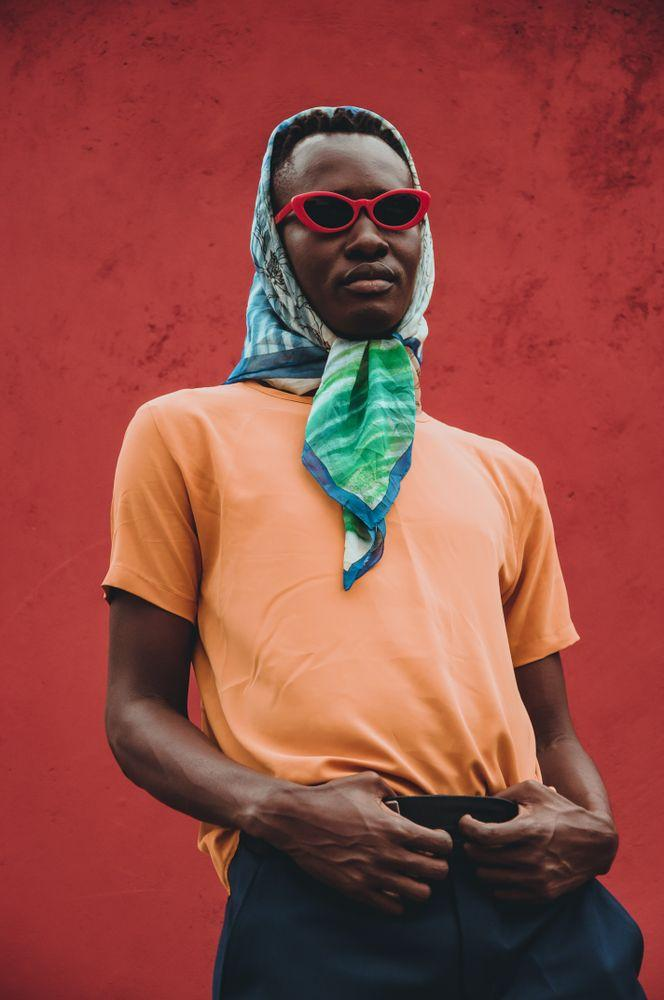scarf-kerchief: (227, 67, 452, 534)
sunglasses: (290, 173, 438, 238)
